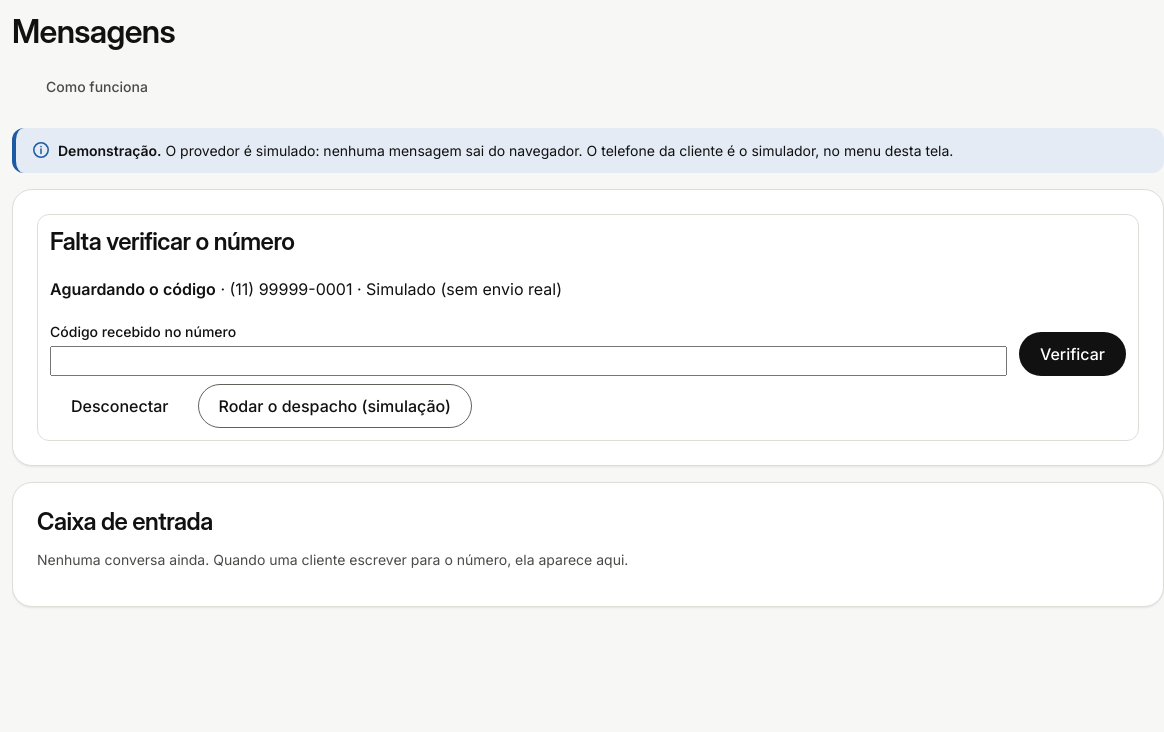
caixa de entrada › Verificar fica ativo; código incompleto mostra o erro embaixo do campo e foca nele
The width and height of the screenshot is (1164, 732).
Check: the button "Verificar" is enabled, box [1019, 332, 1126, 376]
Type "12" into the field labelled "Código recebido no número".
click(528, 361); type("12")  # box [50, 346, 1007, 376]
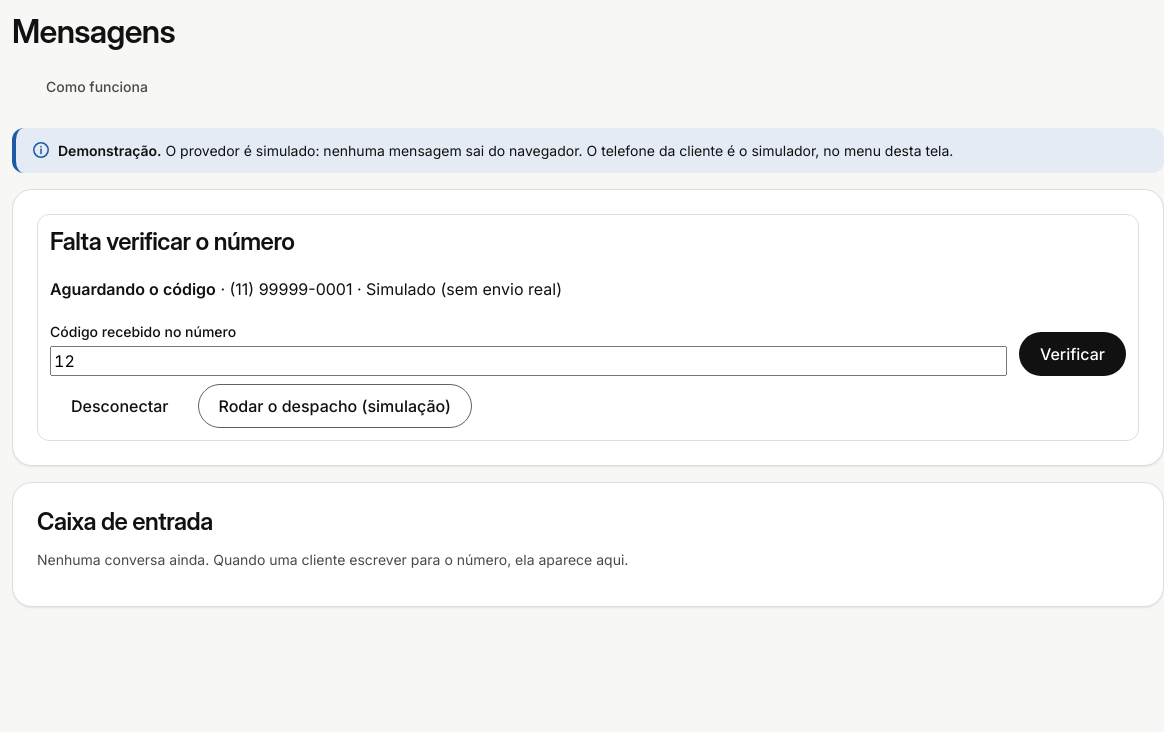
Click the button "Verificar".
click(1072, 354)  # box [1019, 332, 1126, 376]
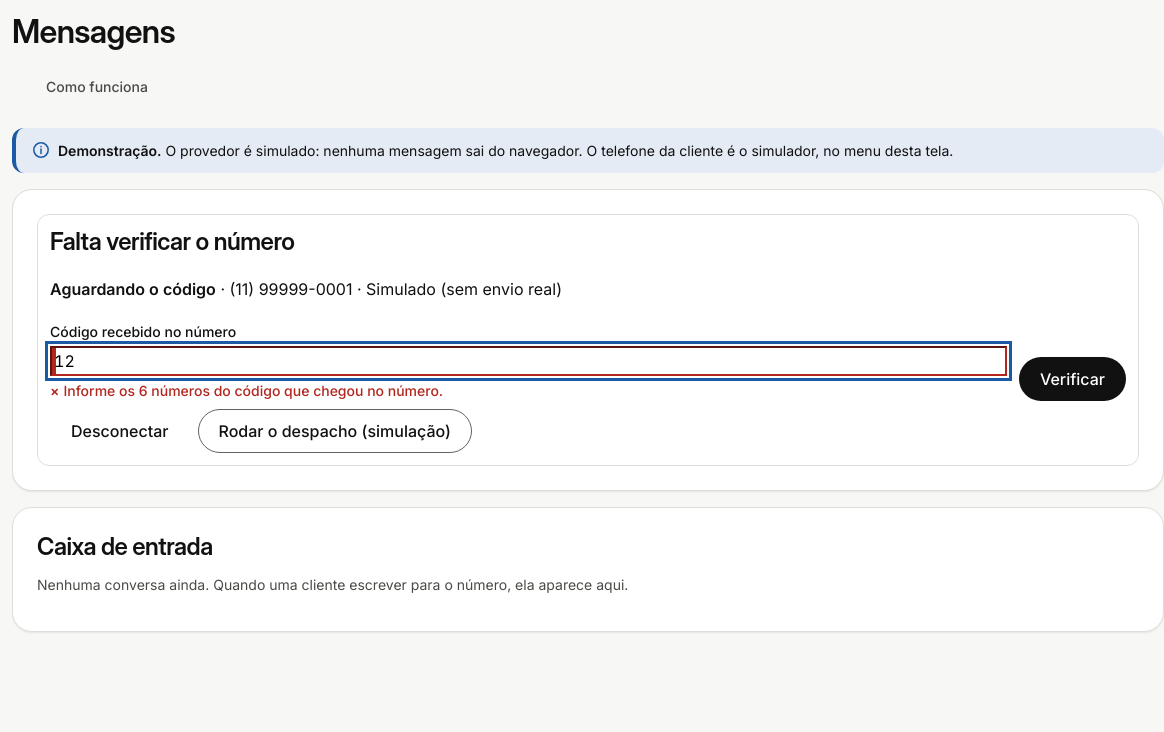
Check: the text "Informe os 6 números do código que chegou no número." is shown, box [63, 382, 443, 399]
